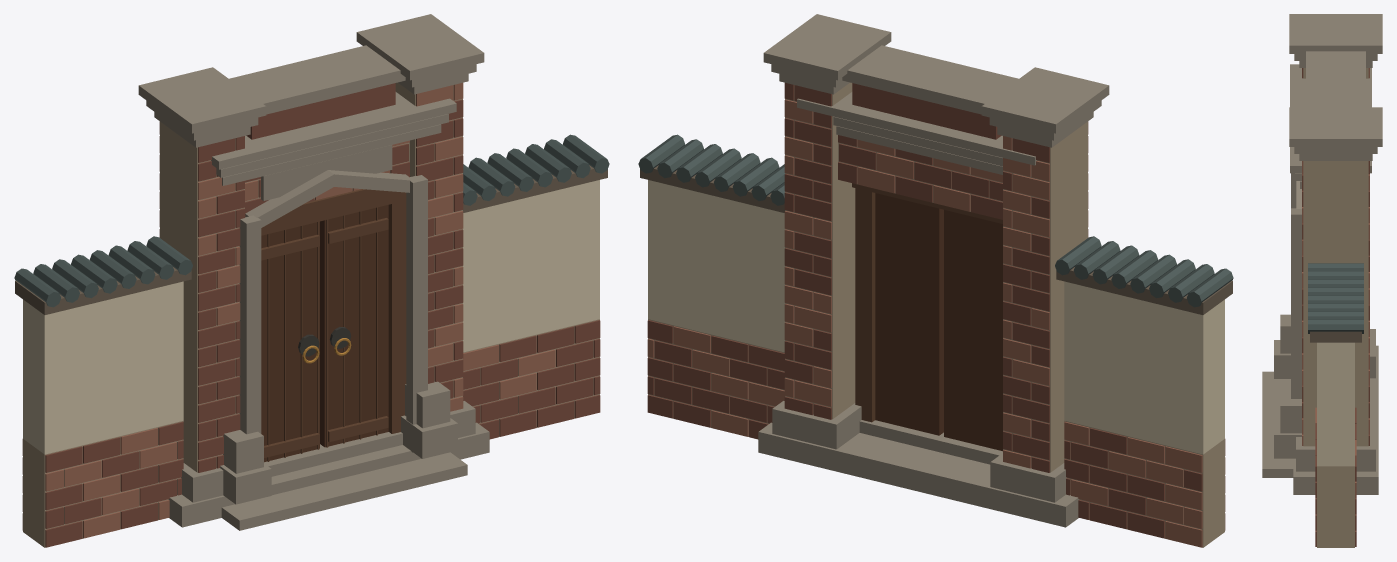
Rendered from Western_Gate.obj.
The picture shows the model from 3 angles, left to right: view 1: azimuth 30°, elevation 25°; view 2: azimuth 150°, elevation 25°; view 3: azimuth 270°, elevation 25°; orthographic projection. The views are drawn at different scales.
Parts seen in each view (by area): view 1: Courtyard_plaster_0047, Courtyard_plaster_0102, Door_leaves_0327, Door_leaves_0317, Walls_0112, Steps_0001, Parapet_cap_0347, Pillar_cap_0192, Western_cornice_0345, Pillar_cap_0274, Pilaster_0275, Platform_0000 (+71 smaller); view 2: Courtyard_plaster_0047, Courtyard_plaster_0102, Door_leaves_0327, Door_leaves_0317, Platform_0000, Walls_0112, Walls_0194, Parapet_cap_0347, Pillar_cap_0192, Pillar_cap_0274, Door_frame_0336, Western_cornice_0345 (+76 smaller); view 3: Walls_0194, Courtyard_plaster_0102, Pillar_cap_0274, Pillar_cap_0192, Parapet_cap_0347, Walls_0057, Steps_0001, Pilaster_0275, Platform_0000, Pillar_plinth_0271, Western_cornice_0345, Square_door_stones_0342 (+17 smaller).
Part boxes in pixels (x1,y1,x2,y2): Courtyard_plaster_0047: (23, 281, 183, 454); Courtyard_plaster_0102: (463, 180, 599, 352); Door_leaves_0327: (320, 205, 388, 447); Door_leaves_0317: (261, 221, 319, 462); Walls_0112: (160, 121, 244, 472); Steps_0001: (221, 452, 467, 530); Parapet_cap_0347: (229, 45, 405, 114); Pillar_cap_0192: (138, 67, 266, 133); Western_cornice_0345: (211, 92, 456, 169); Pillar_cap_0274: (356, 14, 484, 80); Pilaster_0275: (406, 175, 427, 452); Platform_0000: (168, 422, 489, 527); Courtyard_plaster_0047: (1064, 281, 1224, 454); Courtyard_plaster_0102: (648, 180, 784, 352); Door_leaves_0327: (875, 193, 943, 435); Door_leaves_0317: (944, 210, 1002, 451); Platform_0000: (758, 422, 1079, 527); Walls_0112: (1003, 121, 1087, 472); Walls_0194: (785, 82, 855, 419); Parapet_cap_0347: (842, 45, 1018, 114); Pillar_cap_0192: (981, 67, 1109, 133); Pillar_cap_0274: (763, 14, 891, 80); Door_frame_0336: (855, 188, 875, 422); Western_cornice_0345: (797, 92, 1036, 165); Walls_0194: (1303, 161, 1368, 446); Courtyard_plaster_0102: (1317, 342, 1354, 466); Pillar_cap_0274: (1289, 107, 1382, 146); Pillar_cap_0192: (1289, 14, 1382, 53); Parapet_cap_0347: (1306, 51, 1365, 107); Walls_0057: (1317, 466, 1354, 547); Steps_0001: (1262, 371, 1293, 477); Pilaster_0275: (1291, 208, 1301, 398); Platform_0000: (1293, 345, 1378, 494); Pillar_plinth_0271: (1296, 422, 1375, 471); Western_cornice_0345: (1290, 64, 1371, 173); Square_door_stones_0342: (1280, 394, 1301, 433).
Bounding box in the file's own units: 5.68 × 3.88 × 1.2.
